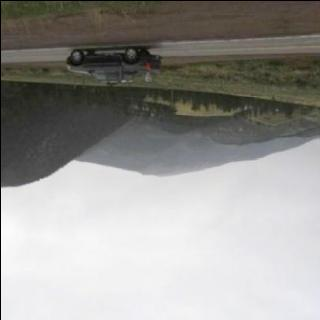Stratocumulus: (0, 157, 320, 320)
